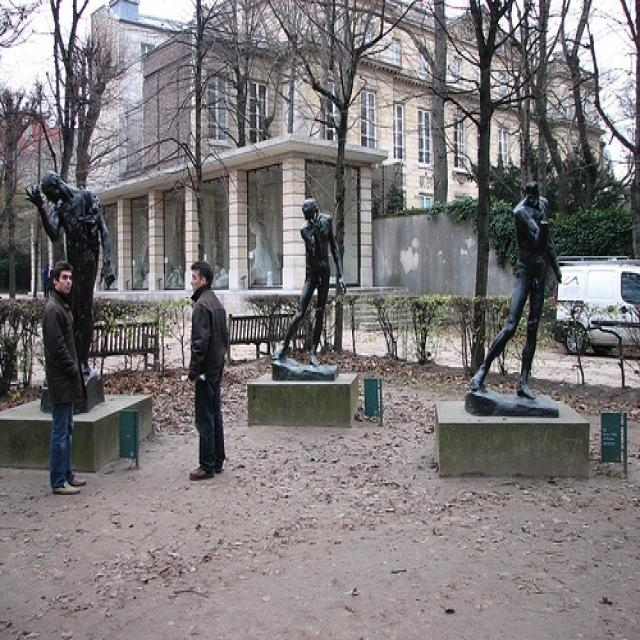car: (556, 256, 638, 357)
